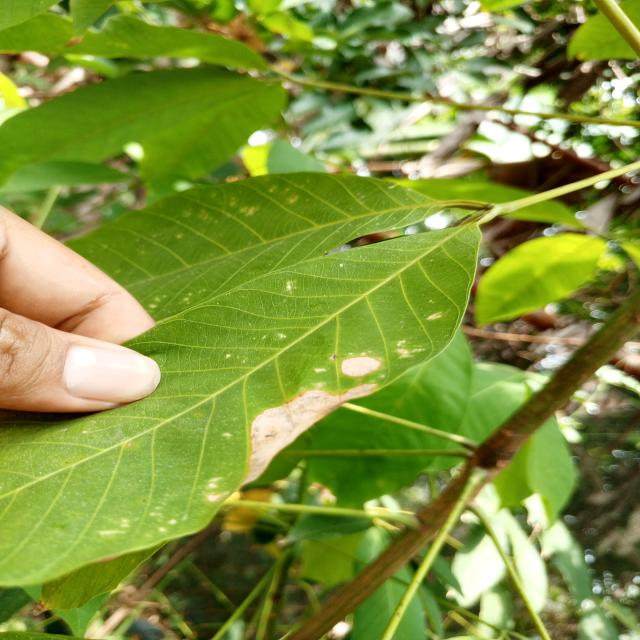Leaf-Blight: (241, 383, 378, 484), (341, 356, 382, 377)
